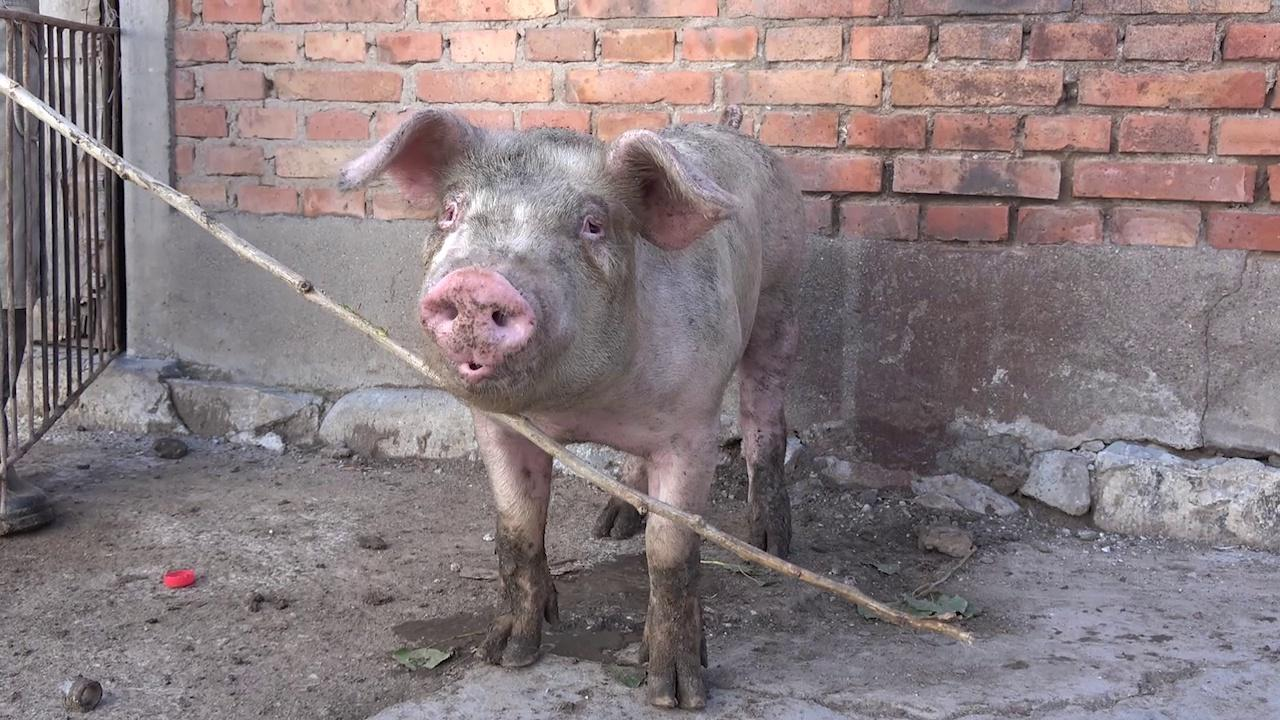Face: (339, 97, 736, 418)
